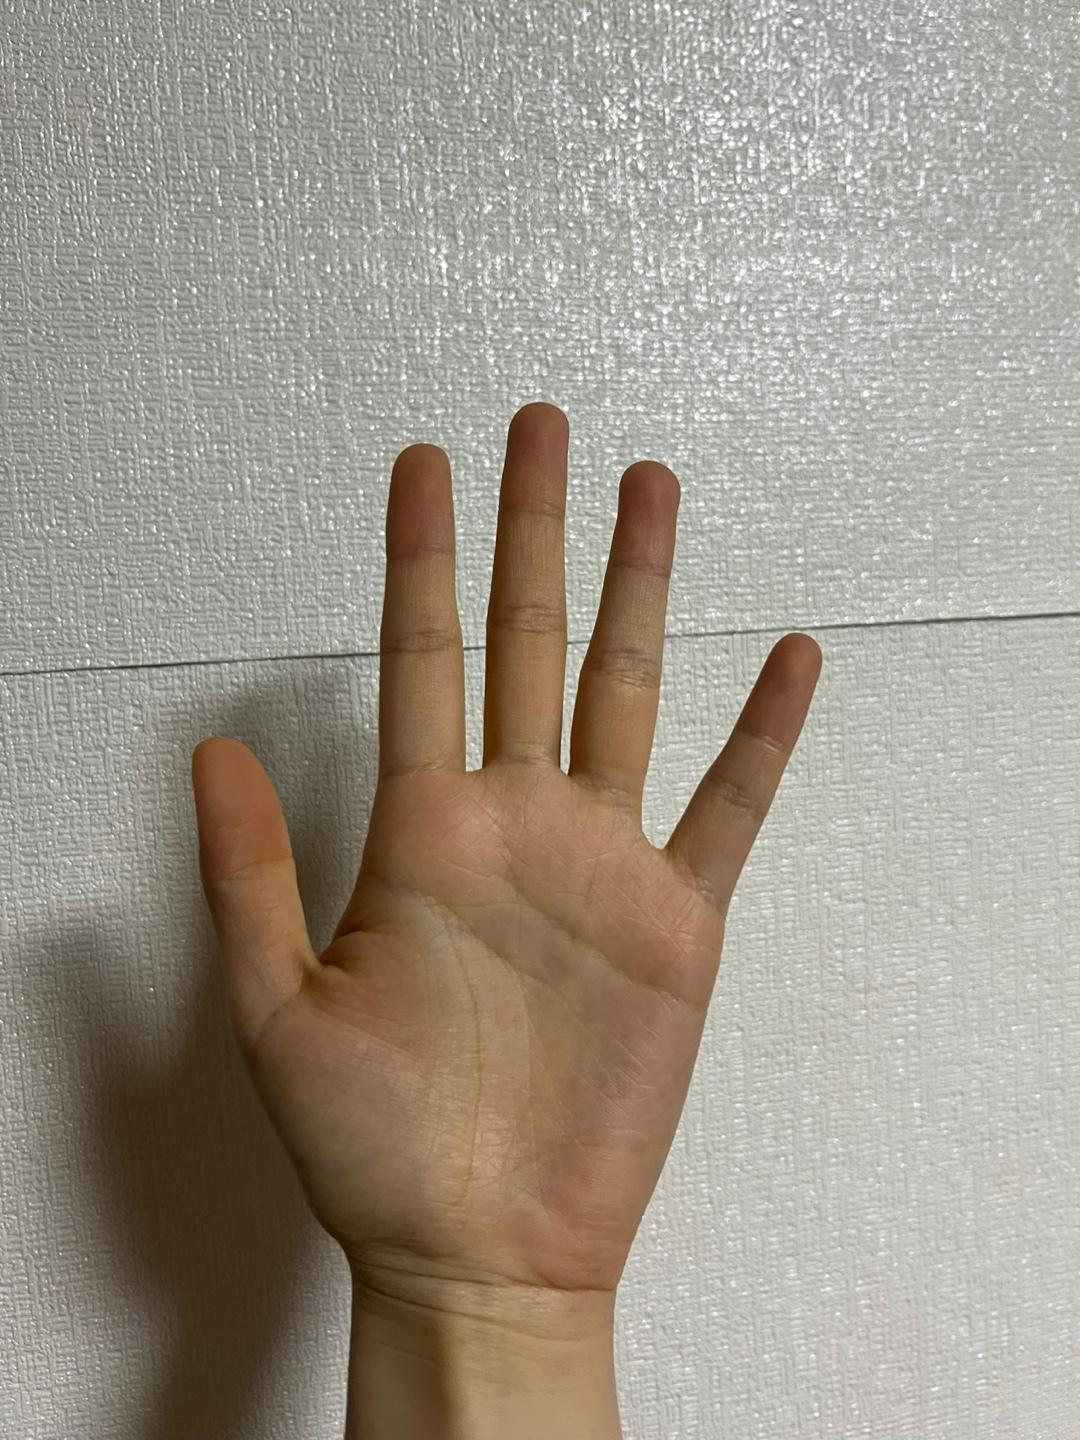open: (184, 396, 834, 1336)
